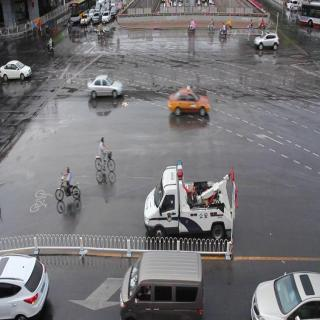BigCar: (295, 0, 320, 36), (68, 1, 95, 22)
Car: (141, 162, 233, 238), (119, 249, 207, 320), (247, 263, 320, 320), (1, 247, 51, 320), (165, 82, 213, 123), (82, 73, 126, 105), (251, 24, 281, 53), (0, 60, 32, 85), (80, 14, 92, 26), (102, 11, 112, 25), (92, 12, 102, 26), (287, 3, 299, 14), (111, 6, 118, 18)
